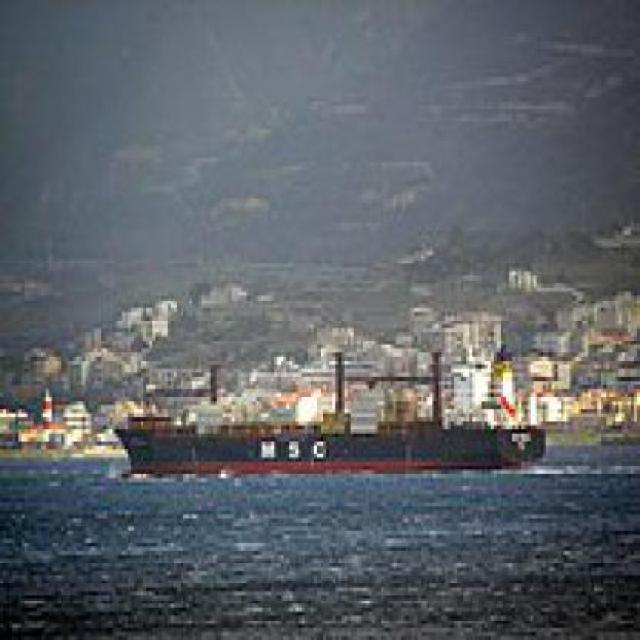container: (114, 357, 554, 479)
